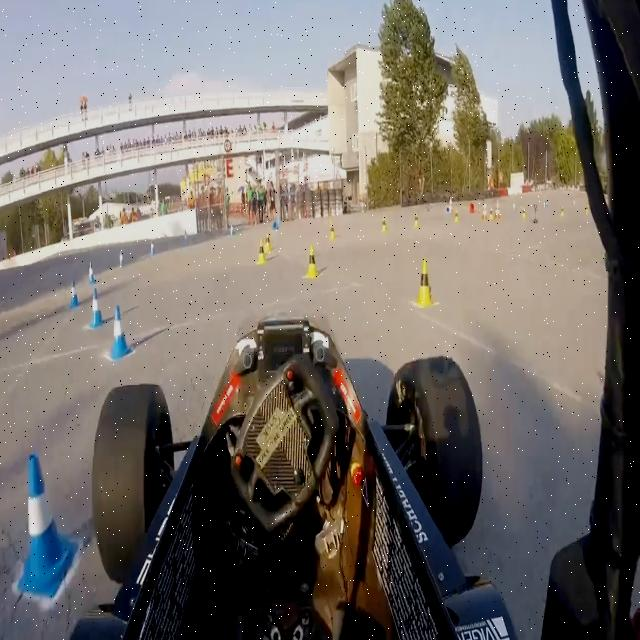blue_cone: (15, 450, 81, 600), (109, 304, 132, 361), (88, 290, 105, 330), (69, 278, 81, 310), (87, 260, 96, 284), (118, 248, 125, 268), (150, 238, 156, 258), (229, 224, 235, 238), (274, 219, 280, 230)
large_orange_cone: (482, 202, 488, 222), (496, 202, 500, 222)
yellow_cone: (414, 258, 434, 310), (302, 240, 320, 280), (257, 240, 266, 266), (379, 215, 388, 233), (264, 233, 272, 252), (329, 224, 336, 240), (413, 212, 419, 230), (454, 210, 460, 222), (522, 206, 527, 220), (560, 206, 564, 217), (490, 208, 493, 220)
